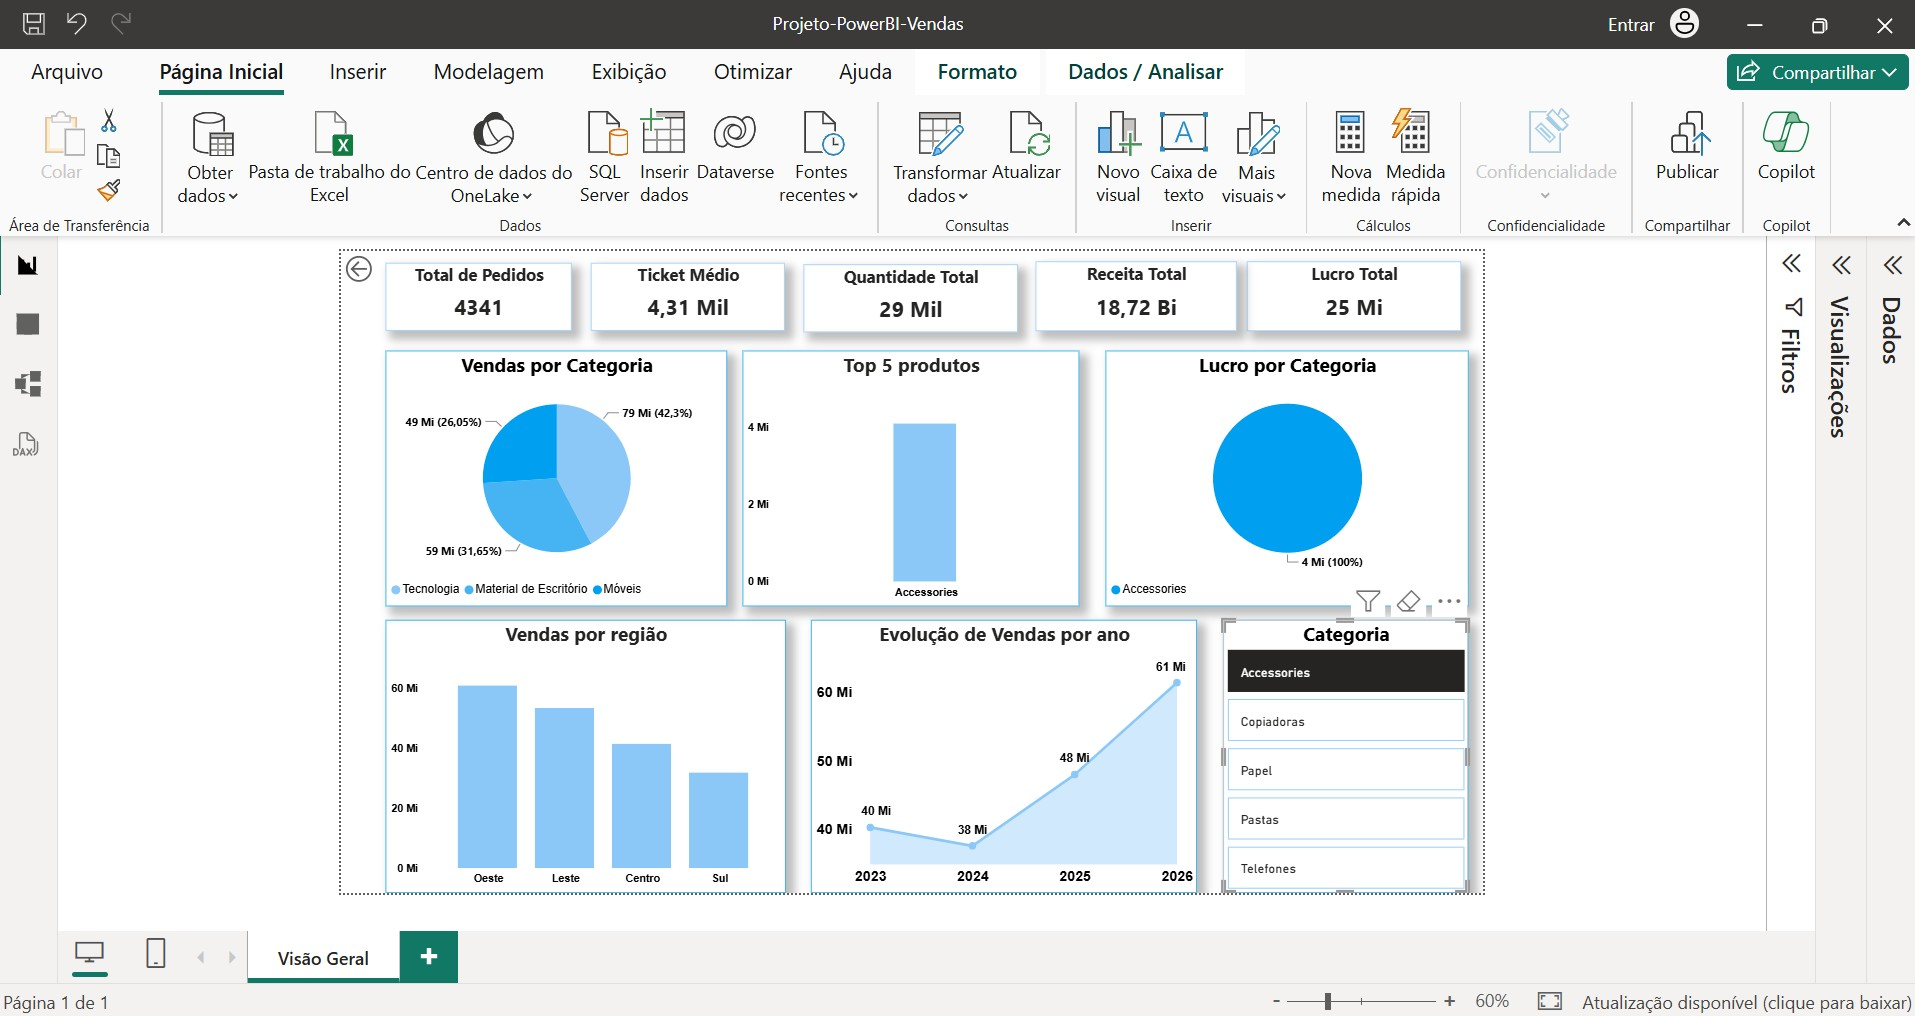

This screenshot's page, from the dashboard's own definition file:
{"tool":"powerbi","page":{"name":"Visão Geral","canvas":[1280,720],"ordinal":0},"visuals":[{"type":"card","title":"Lucro Total","fields":{"Values":["Sum(VISÃO GERAL.lucro_total)"]},"box":[1014.7,11.2,239.7,78.1],"z":0},{"type":"card","title":"Quantidade Total","fields":{"Values":["Sum(VISÃO GERAL.quantidade_total)"]},"box":[518.5,14.9,239.7,76.2],"z":1000},{"type":"card","title":"Ticket Médio","fields":{"Values":["Sum(SQLite 13.Ticket_Medio_Correto)"]},"box":[280.6,13,217.4,76.2],"z":2000},{"type":"card","title":"Receita Total","fields":{"Values":["Sum(SQLite 13.Receita_Total)"]},"box":[778.7,11.2,224.9,78.1],"z":3000},{"type":"card","title":"Total de Pedidos","fields":{"Values":["Sum(SQLite 13.Total_Pedidos)"]},"box":[50.2,13,208.1,76.2],"z":4000},{"type":"clusteredColumnChart","title":"Vendas por região","fields":{"Category":["VENDAS POR REGIÃO.region"],"Y":["Sum(VENDAS POR REGIÃO.receita)"]},"box":[50.2,413.8,448.2,305.6],"z":5000},{"type":"lineChart","title":"Evolução de Vendas por ano","fields":{"Category":["EVOLUÇÃO ANOS.ano"],"Y":["Sum(EVOLUÇÃO ANOS.receita)"]},"box":[526.6,413.8,432.6,305.6],"z":6000},{"type":"pieChart","title":"Vendas por Categoria","fields":{"Category":["VENDAS POR CATEGORIA.category"],"Y":["Sum(VENDAS POR CATEGORIA.receita)"]},"box":[50.2,111.5,382.8,286.2],"z":7000},{"type":"pieChart","title":"Lucro por Categoria","fields":{"Category":["SUBCATEGORIAS TOP 5 LUCRATIVAS.sub_category"],"Y":["Sum(SUBCATEGORIAS TOP 5 LUCRATIVAS.lucro)"]},"box":[856.8,111.5,407,286.2],"z":8000},{"type":"actionButton","box":[0,0,100,40],"z":9000},{"type":"columnChart","title":"Top 5 produtos","fields":{"Category":["SUBCATEGORIAS TOP 5 LUCRATIVAS.sub_category"],"Y":["Sum(SUBCATEGORIAS TOP 5 LUCRATIVAS.lucro)"]},"box":[449.8,111.5,377.3,286.2],"z":10000},{"type":"advancedSlicerVisual","title":"Categoria","fields":{"Values":["VENDAS POR CATEGORIA.category"]},"box":[989,414,275,306],"z":10001}]}

Visuals, with their boxes on the page's 1280x720 design canvas (x1, y1, x2, y2). These are canvas units, not pixel positions in the 1915x1016 screenshot, which may show the page scaled, cropped or inside an application window:
"Lucro Total" card: 1015,11,1254,89
"Quantidade Total" card: 518,15,758,91
"Ticket Médio" card: 281,13,498,89
"Receita Total" card: 779,11,1004,89
"Total de Pedidos" card: 50,13,258,89
"Vendas por região" clusteredColumnChart: 50,414,498,719
"Evolução de Vendas por ano" lineChart: 527,414,959,719
"Vendas por Categoria" pieChart: 50,112,433,398
"Lucro por Categoria" pieChart: 857,112,1264,398
actionButton: 0,0,100,40
"Top 5 produtos" columnChart: 450,112,827,398
"Categoria" advancedSlicerVisual: 989,414,1264,720
